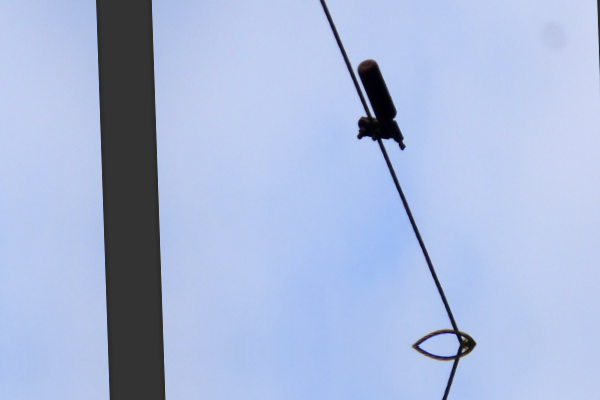damper_defect: (350, 58, 408, 154)
